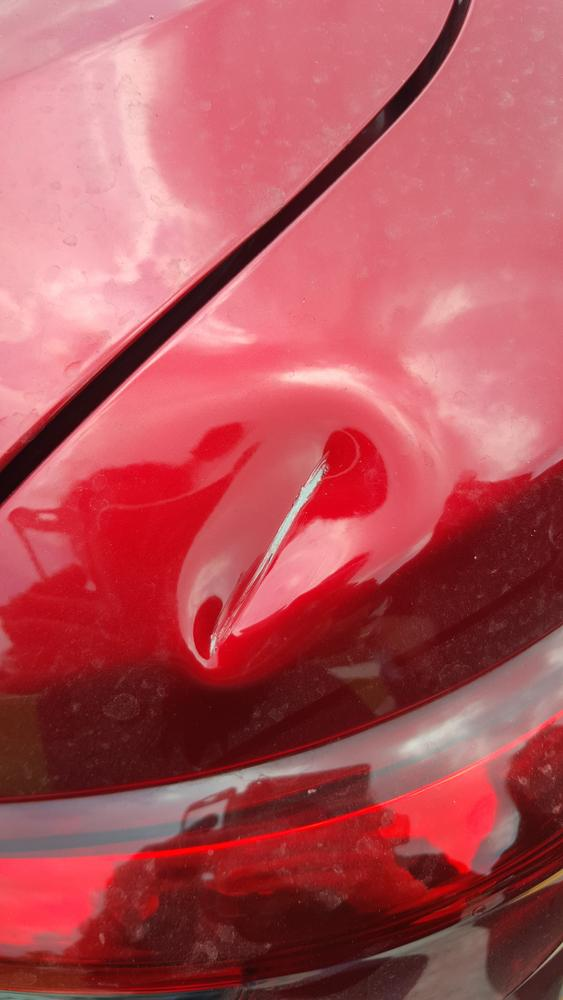dent: (183, 387, 439, 667)
